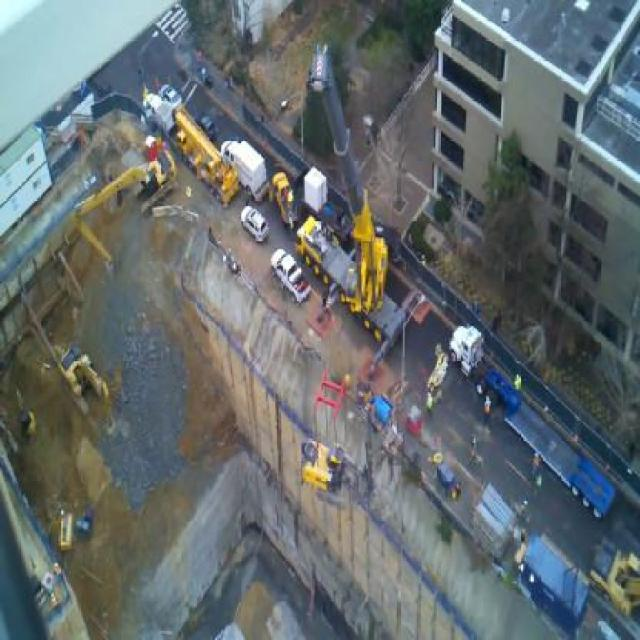Excavator: (70, 141, 175, 282), (298, 435, 376, 510), (591, 534, 638, 620), (59, 346, 107, 412)
Mobile Crane: (295, 35, 400, 379), (138, 84, 240, 204)
